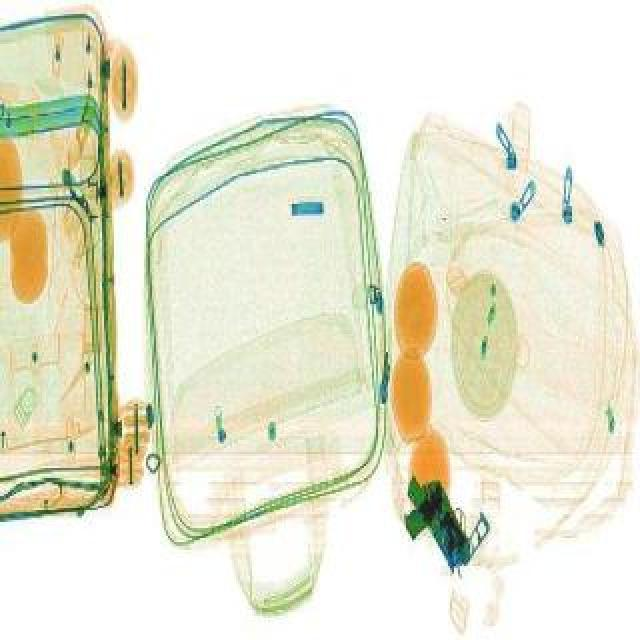gun: (402, 454, 506, 572), (388, 468, 488, 574)
